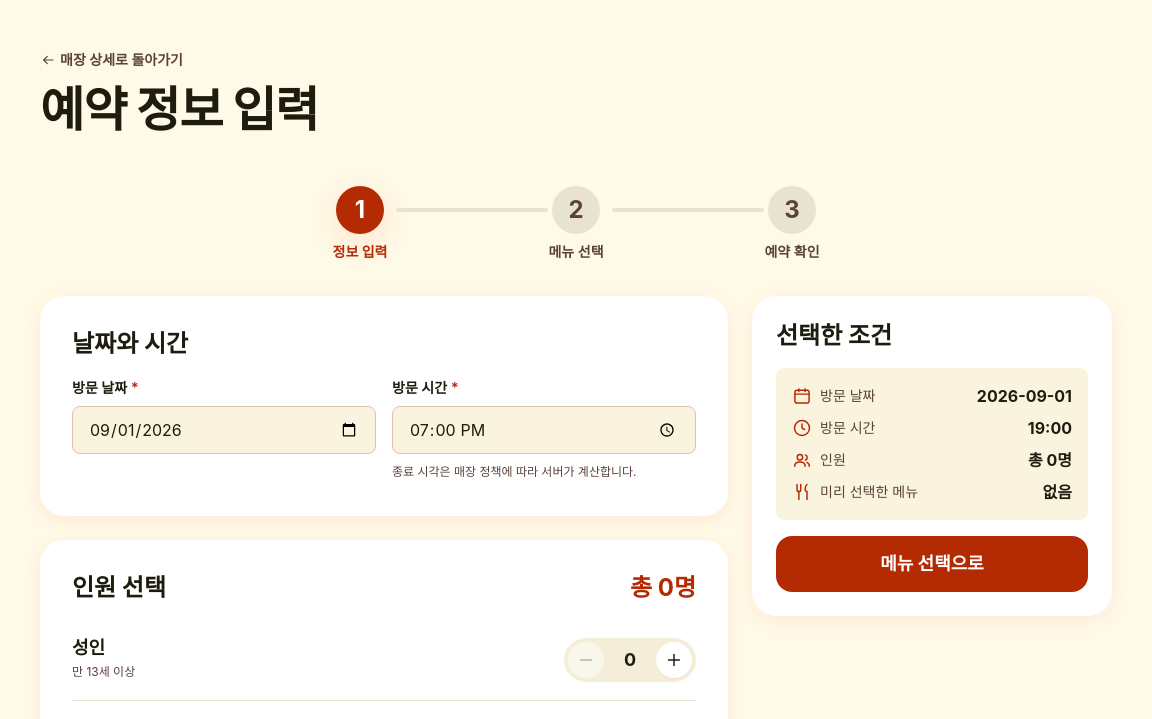
Test: 예약 생성 화면 › 인원이 0명이면 제출하지 않는다
The width and height of the screenshot is (1152, 719).
Click the button "메뉴 선택으로".
click(932, 564)  # box [776,536,1088,592]
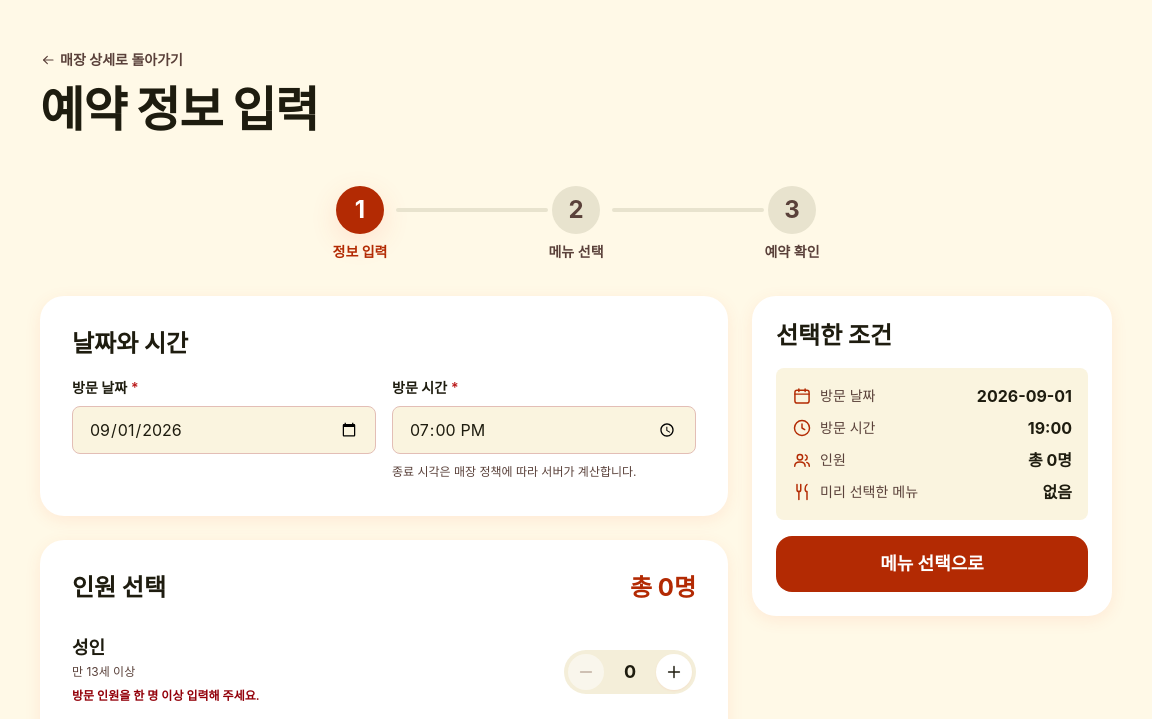
Now the text "방문 인원을 한 명 이상 입력해 주세요." is shown, box [72,684,260,708]
